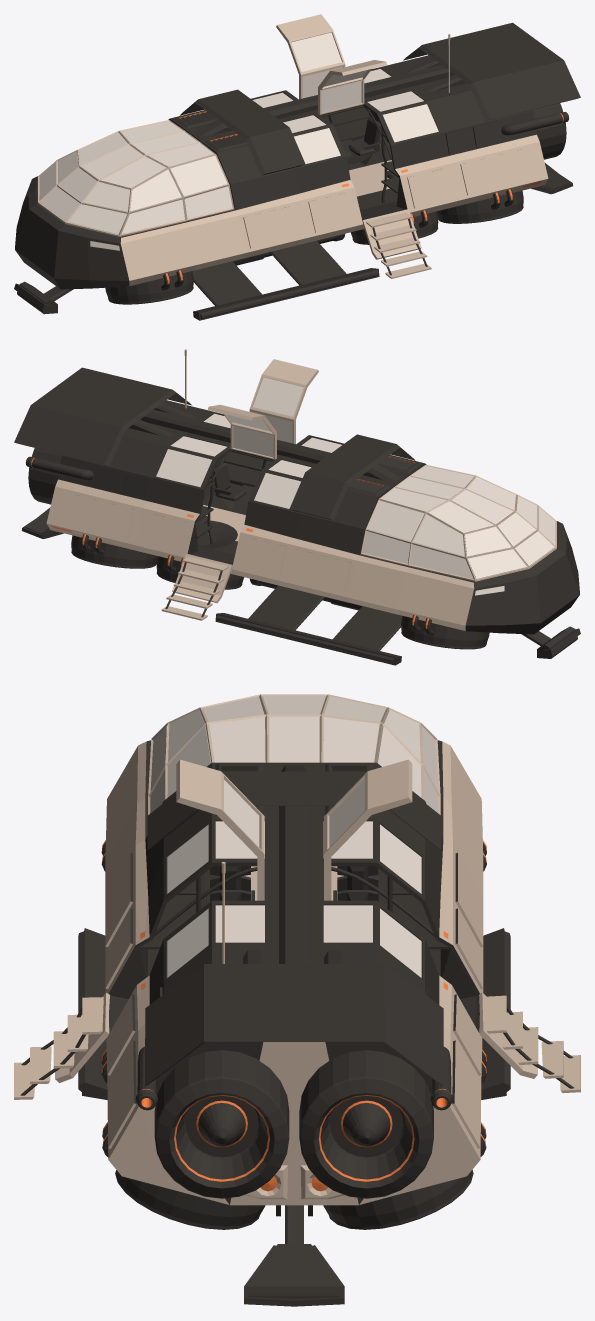
The model's file is SpaceShip.fbx.
3 views of the same model, one above another, from view 1: azimuth 30°, elevation 25°; view 2: azimuth 150°, elevation 25°; view 3: azimuth 270°, elevation 25° (orthographic). The views are drawn at different scales.
Parts seen in each view (by area): view 1: Hull, Windows, Landing_Legs, Doors_Antenna, Hover_Housing, Interior_Wall, Window_Frame_Front, Thruster, Pipe_Frame, Seats; view 2: Hull, Windows, Landing_Legs, Doors_Antenna, Hover_Housing, Interior_Wall, Window_Frame_Front, Thruster, Pipe_Frame, Seats, Hover_Pad_M_R; view 3: Hull, Thruster, Windows, Doors_Antenna, Landing_Legs, Interior_Wall, Hover_Housing, Window_Frame_Front, Pipe_Frame, Seats.
Part boxes in pixels (x1=…): Hull: x1=15, y1=22, x2=580, y2=289; Windows: x1=39, y1=32, x2=438, y2=250; Landing_Legs: x1=14, y1=163, x2=572, y2=320; Doors_Antenna: x1=276, y1=14, x2=450, y2=278; Hover_Housing: x1=105, y1=189, x2=523, y2=304; Interior_Wall: x1=36, y1=68, x2=438, y2=237; Window_Frame_Front: x1=38, y1=120, x2=234, y2=236; Thruster: x1=501, y1=103, x2=569, y2=159; Pipe_Frame: x1=134, y1=105, x2=427, y2=275; Seats: x1=123, y1=110, x2=396, y2=233; Hull: x1=14, y1=367, x2=579, y2=634; Windows: x1=156, y1=377, x2=555, y2=595; Landing_Legs: x1=21, y1=507, x2=580, y2=665; Doors_Antenna: x1=161, y1=349, x2=318, y2=620; Hover_Housing: x1=71, y1=534, x2=489, y2=649; Interior_Wall: x1=156, y1=413, x2=558, y2=582; Window_Frame_Front: x1=360, y1=465, x2=556, y2=581; Thruster: x1=26, y1=448, x2=93, y2=504; Pipe_Frame: x1=165, y1=450, x2=466, y2=617; Seats: x1=198, y1=455, x2=472, y2=578; Hover_Pad_M_R: x1=196, y1=520, x2=237, y2=549; Hull: x1=105, y1=741, x2=483, y2=1216; Thruster: x1=135, y1=1046, x2=452, y2=1198; Windows: x1=150, y1=695, x2=438, y2=977; Doors_Antenna: x1=14, y1=759, x2=580, y2=1199; Landing_Legs: x1=78, y1=928, x2=510, y2=1306; Interior_Wall: x1=108, y1=740, x2=479, y2=1032; Hover_Housing: x1=101, y1=840, x2=486, y2=1229; Window_Frame_Front: x1=148, y1=694, x2=440, y2=814; Pipe_Frame: x1=20, y1=866, x2=574, y2=1095; Seats: x1=206, y1=866, x2=382, y2=904.
Bounding box in the file's own units: 280 × 96.48 × 147.
